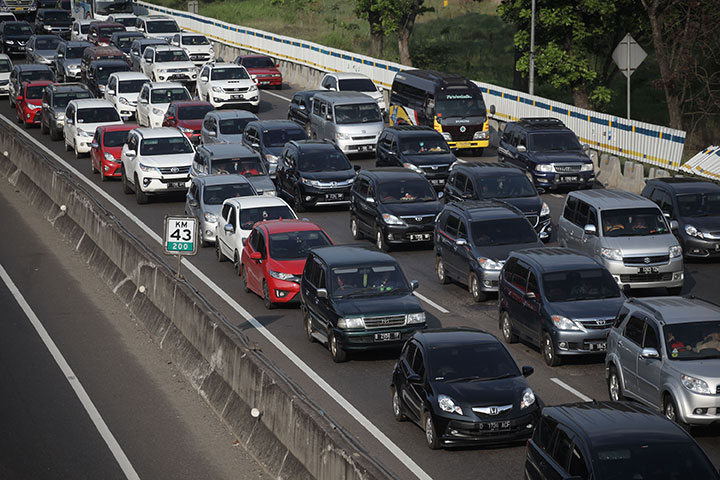car: (392, 329, 540, 447), (601, 294, 720, 435), (498, 248, 637, 368), (303, 243, 426, 364), (558, 188, 685, 289), (434, 200, 548, 303), (241, 218, 341, 310), (388, 70, 490, 157), (444, 162, 551, 243), (497, 115, 595, 195), (351, 170, 444, 250), (637, 177, 720, 262), (121, 127, 205, 206), (220, 199, 303, 274), (192, 144, 276, 217), (186, 174, 260, 249), (277, 140, 354, 211), (377, 128, 456, 195), (311, 91, 385, 158), (65, 100, 124, 158), (194, 62, 260, 113), (89, 124, 147, 181), (42, 83, 96, 143), (201, 110, 261, 163), (137, 82, 194, 135), (140, 45, 197, 94), (105, 72, 157, 121), (17, 79, 66, 126), (82, 46, 129, 92), (10, 65, 57, 111), (136, 15, 184, 56), (231, 54, 283, 91), (90, 61, 131, 104), (171, 33, 215, 71), (54, 41, 91, 83), (129, 39, 169, 76), (109, 32, 147, 70), (89, 21, 129, 56), (1, 20, 37, 57), (27, 35, 65, 70), (36, 7, 72, 42), (108, 14, 143, 50), (73, 19, 106, 52)
